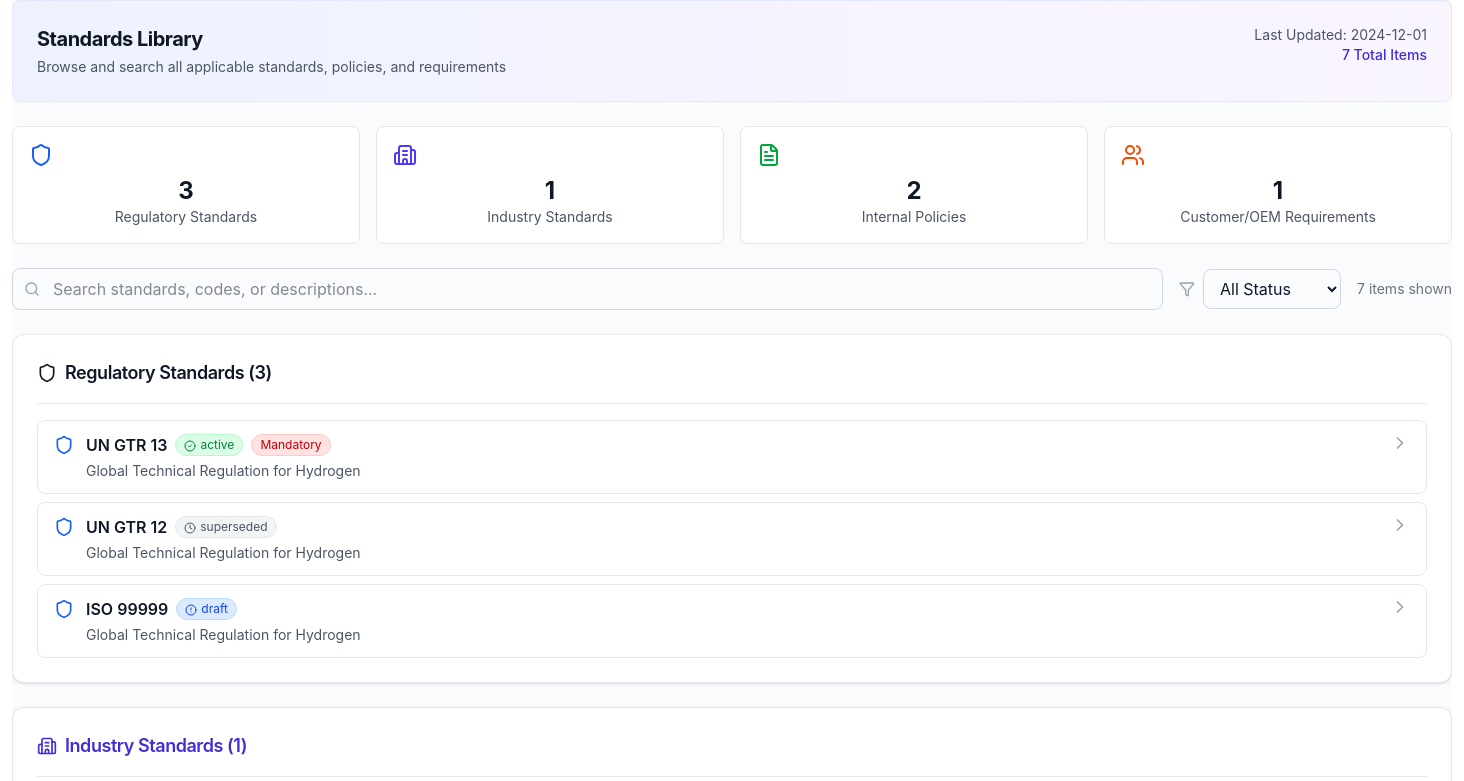
Test: StandardsLibraryPanel › Status Filtering › should filter by draft status
Select "Draft" in the dropdown at (1272, 289), box 1203,269 -> 1341,309
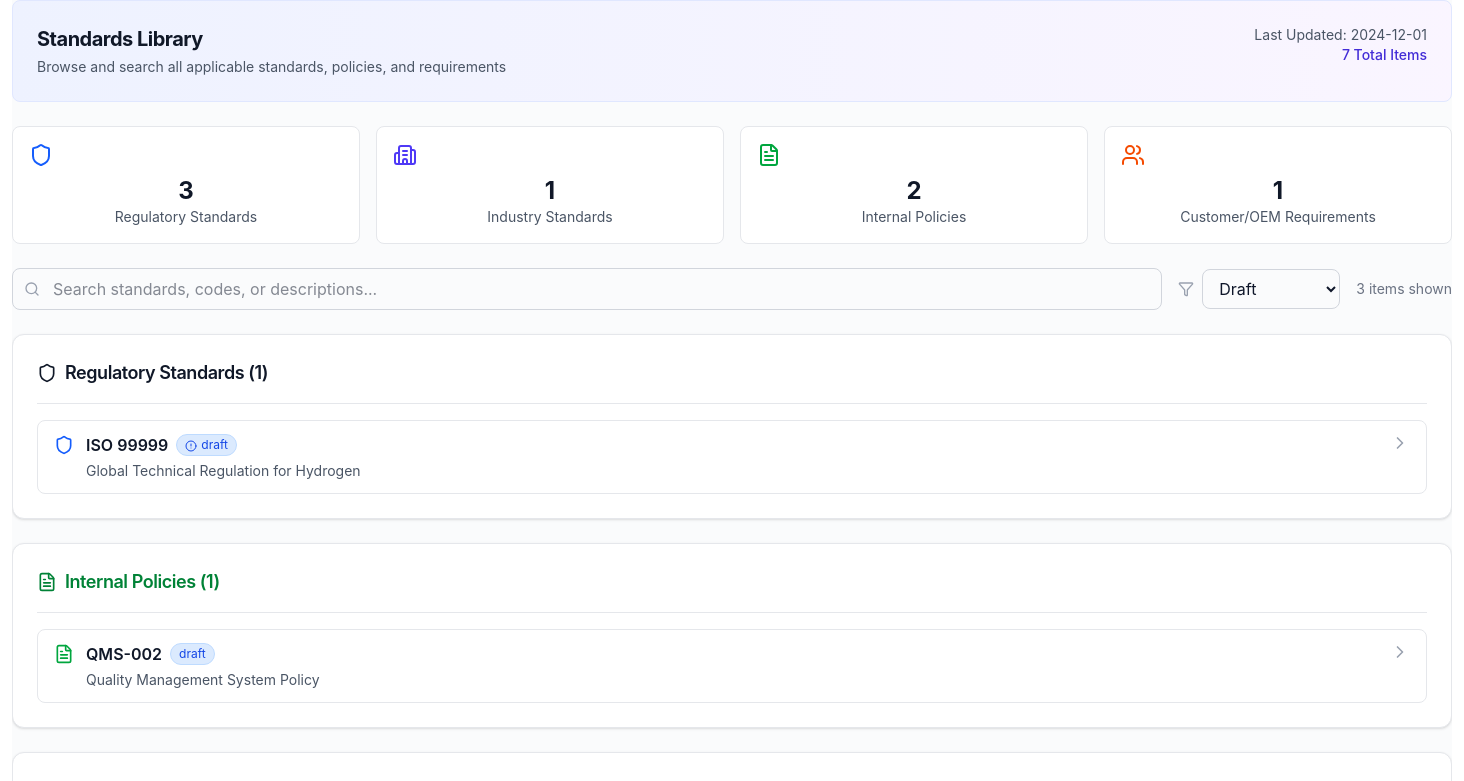
expect the text "ISO 99999" is shown: met, box 86,433 -> 168,457
expect the button "UN GTR 13" is gone: met
